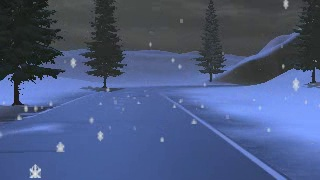Lane: (1, 85, 281, 179)
